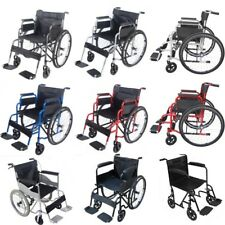wheelchair: (78, 3, 147, 80), (1, 80, 73, 151), (1, 7, 71, 78), (153, 4, 225, 73), (152, 80, 223, 149), (79, 84, 148, 153), (4, 156, 72, 225), (157, 153, 222, 225), (84, 156, 147, 220)
